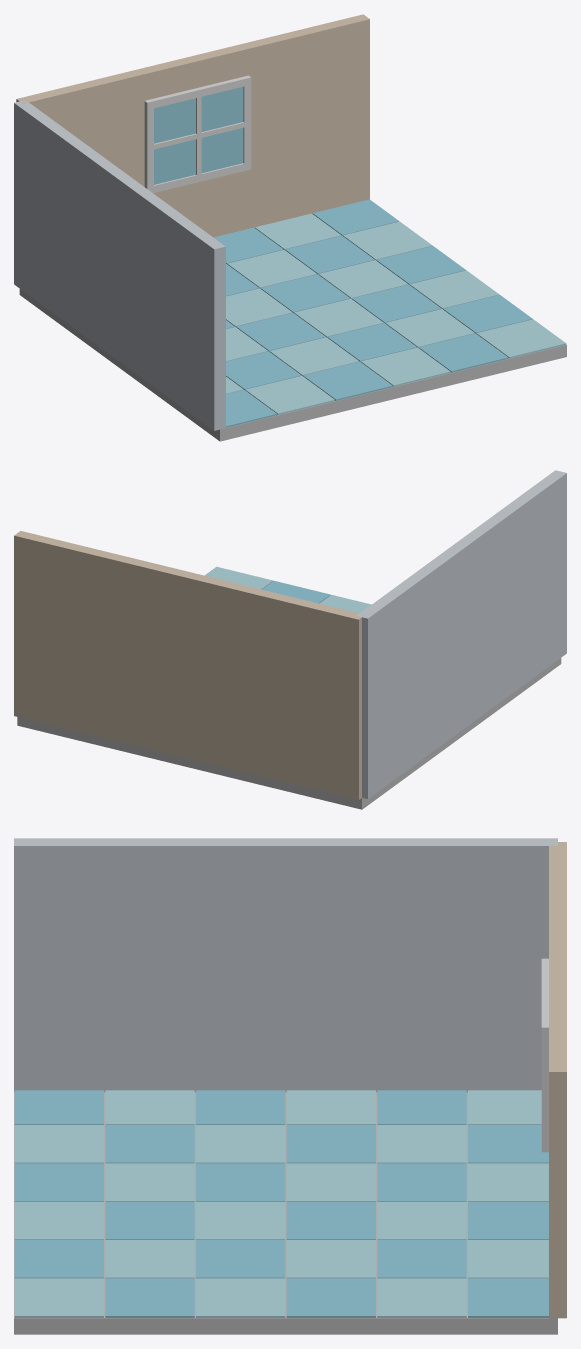
Rendered from casa_2_paredes_colores.glb.
The picture shows the model from 3 angles, top to bottom: view 1: azimuth 30°, elevation 25°; view 2: azimuth 150°, elevation 25°; view 3: azimuth 270°, elevation 25°; orthographic projection. The views are drawn at different scales.
Visible parts, largest first — view 1: part_2, part_1, window_sky, part_0, tile_5_5, tile_2_5, tile_4_5, tile_3_5, tile_1_5, tile_3_3, tile_3_4, tile_4_2 (+24 smaller); view 2: part_1, part_2, part_0, tile_4_5, tile_5_5, tile_3_5; view 3: part_2, part_0, part_1, tile_5_1, tile_5_2, tile_5_3, tile_5_4, tile_5_5, tile_1_1, tile_1_4, tile_2_1, tile_2_2 (+29 smaller).
Boxes of the visible parts, <box> form: part_2: <box>14,100,225,430</box>; part_1: <box>16,14,369,237</box>; window_sky: <box>154,86,243,184</box>; part_0: <box>19,289,566,441</box>; tile_5_5: <box>476,319,566,358</box>; tile_2_5: <box>303,361,392,400</box>; tile_4_5: <box>418,333,508,372</box>; tile_3_5: <box>361,347,450,386</box>; tile_1_5: <box>245,376,334,414</box>; tile_3_3: <box>294,298,383,337</box>; tile_3_4: <box>327,323,417,361</box>; tile_4_2: <box>318,260,408,298</box>; part_1: <box>14,531,364,799</box>; part_2: <box>357,470,566,798</box>; part_0: <box>17,658,561,809</box>; tile_4_5: <box>262,580,330,603</box>; tile_5_5: <box>205,566,273,589</box>; tile_3_5: <box>320,594,371,613</box>; part_2: <box>14,838,557,1092</box>; part_0: <box>14,1092,557,1334</box>; part_1: <box>549,842,566,1318</box>; tile_5_1: <box>377,1278,466,1317</box>; tile_5_2: <box>286,1278,375,1317</box>; tile_5_3: <box>196,1278,285,1317</box>; tile_5_4: <box>105,1278,194,1317</box>; tile_5_5: <box>14,1278,103,1317</box>; tile_1_1: <box>377,1125,466,1163</box>; tile_1_4: <box>105,1125,194,1163</box>; tile_2_1: <box>377,1163,466,1201</box>; tile_2_2: <box>286,1163,375,1201</box>.
Bounding box in the file's own units: 6.1 × 3.2 × 6.1.
